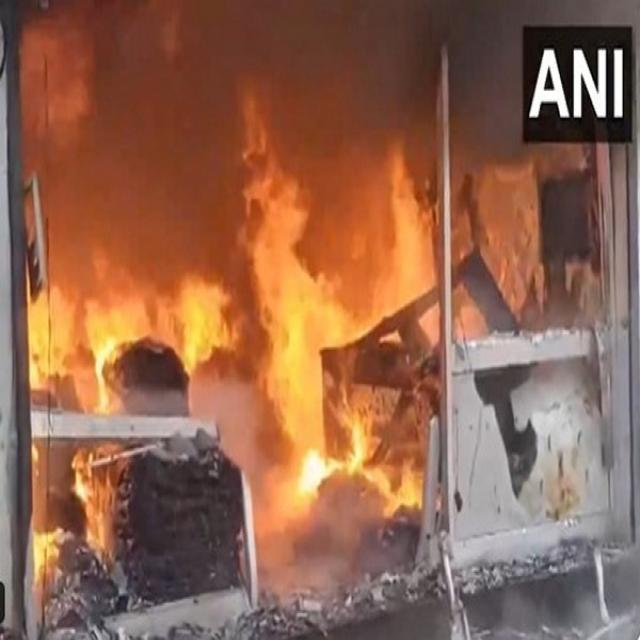fire: (241, 94, 355, 497), (24, 257, 241, 414), (480, 166, 545, 326), (393, 141, 439, 348), (73, 442, 123, 558), (452, 182, 481, 338), (359, 388, 389, 471), (367, 471, 421, 516), (34, 530, 65, 578)
